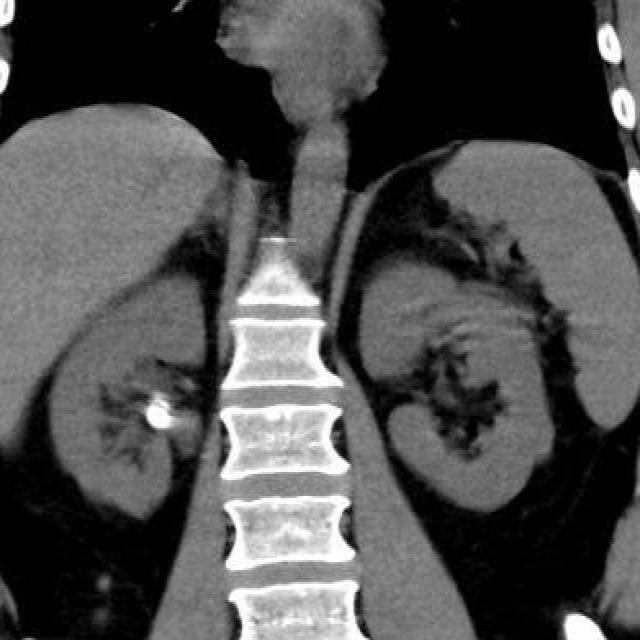Tas_Var: (143, 404, 176, 432), (158, 397, 173, 409)
